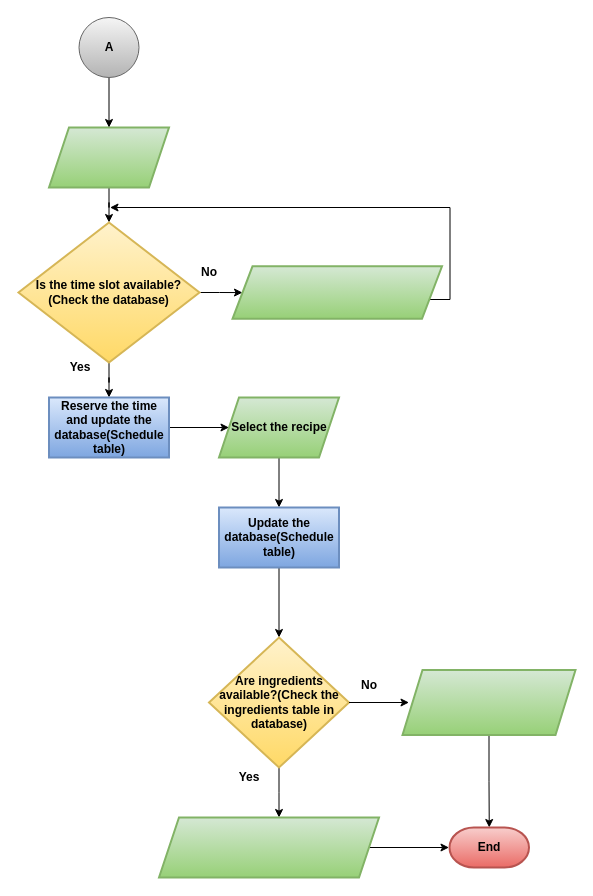
This 593x896 diagram has some shape labels left out. The centre of each missing label's shape, as x and y in pixels:
"Display ' Sorry!Available ingredients are reserved'" goes at pixel 488 702.
"Display 'Reserved! Try an other time.'" goes at pixel 336 292.
"Display ‘Your order is successful TIME DATE RECIPE" goes at pixel 269 847.
"Enter the Date and Time" goes at pixel 109 157.
